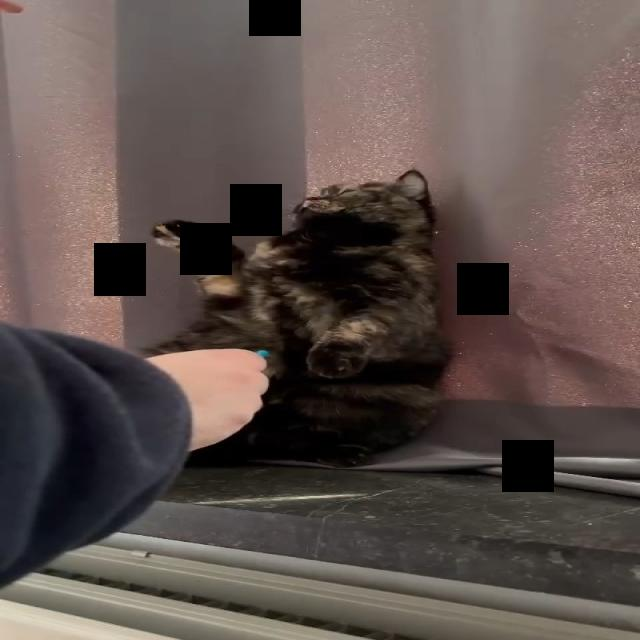authorized: (139, 167, 453, 468)
